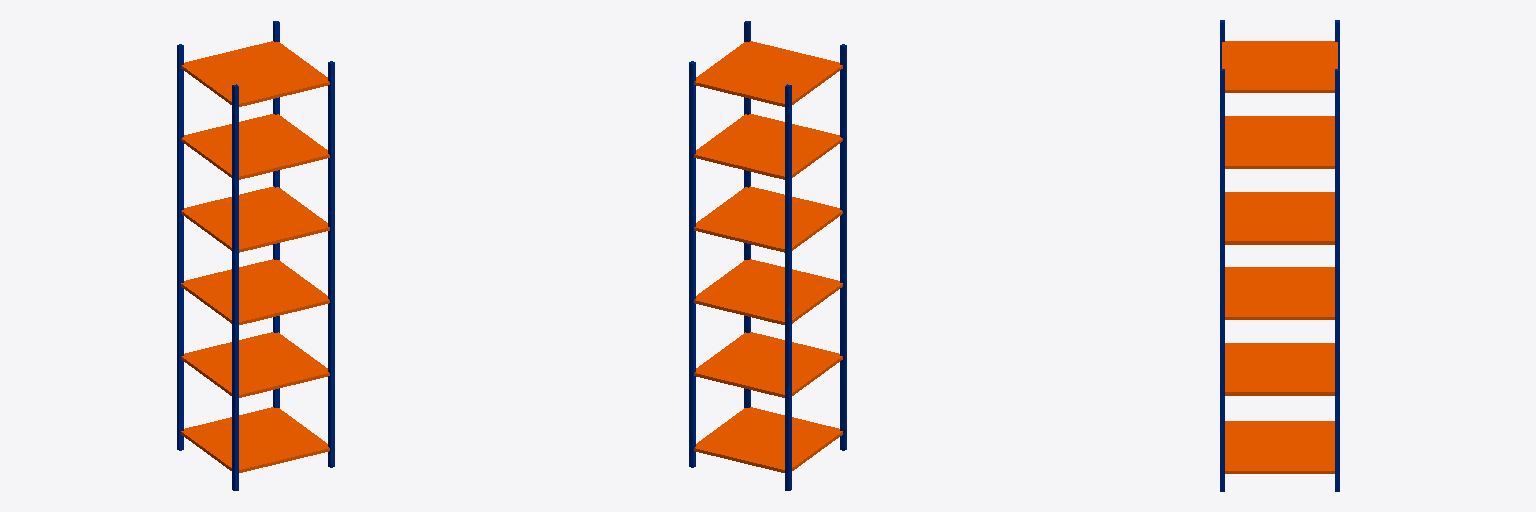
The robot description file, URDF, robot "pallet_rack":
<?xml version="1.0"?>
<robot name="pallet_rack">

  <material name="rack_blue"><color rgba="0.0 0.2 0.6 1.0"/></material>
  <material name="rack_orange"><color rgba="1.0 0.4 0.0 1.0"/></material>

  <link name="rack_base">
    
    <inertial>
      <mass value="150.0"/>
      <origin xyz="0 0 2.5" rpy="0 0 0"/>
      <inertia ixx="100.0" ixy="0" ixz="0" iyy="100.0" iyz="0" izz="50.0"/>
    </inertial>

    <visual><origin xyz="0.62 0.62 2.5" rpy="0 0 0"/><geometry><box size="0.06 0.06 5.0"/></geometry><material name="rack_blue"/></visual>
    <collision><origin xyz="0.62 0.62 2.5" rpy="0 0 0"/><geometry><box size="0.06 0.06 5.0"/></geometry></collision>

    <visual><origin xyz="0.62 -0.62 2.5" rpy="0 0 0"/><geometry><box size="0.06 0.06 5.0"/></geometry><material name="rack_blue"/></visual>
    <collision><origin xyz="0.62 -0.62 2.5" rpy="0 0 0"/><geometry><box size="0.06 0.06 5.0"/></geometry></collision>

    <visual><origin xyz="-0.62 0.62 2.5" rpy="0 0 0"/><geometry><box size="0.06 0.06 5.0"/></geometry><material name="rack_blue"/></visual>
    <collision><origin xyz="-0.62 0.62 2.5" rpy="0 0 0"/><geometry><box size="0.06 0.06 5.0"/></geometry></collision>

    <visual><origin xyz="-0.62 -0.62 2.5" rpy="0 0 0"/><geometry><box size="0.06 0.06 5.0"/></geometry><material name="rack_blue"/></visual>
    <collision><origin xyz="-0.62 -0.62 2.5" rpy="0 0 0"/><geometry><box size="0.06 0.06 5.0"/></geometry></collision>

    <visual><origin xyz="0 0 0.22" rpy="0 0 0"/><geometry><box size="1.26 1.26 0.04"/></geometry><material name="rack_orange"/></visual>
    <collision><origin xyz="0 0 0.22" rpy="0 0 0"/><geometry><box size="1.26 1.26 0.04"/></geometry></collision>

    <visual><origin xyz="0 0 1.15" rpy="0 0 0"/><geometry><box size="1.26 1.26 0.04"/></geometry><material name="rack_orange"/></visual>
    <collision><origin xyz="0 0 1.15" rpy="0 0 0"/><geometry><box size="1.26 1.26 0.04"/></geometry></collision>

    <visual><origin xyz="0 0 2.05" rpy="0 0 0"/><geometry><box size="1.26 1.26 0.04"/></geometry><material name="rack_orange"/></visual>
    <collision><origin xyz="0 0 2.05" rpy="0 0 0"/><geometry><box size="1.26 1.26 0.04"/></geometry></collision>

    <visual><origin xyz="0 0 2.95" rpy="0 0 0"/><geometry><box size="1.26 1.26 0.04"/></geometry><material name="rack_orange"/></visual>
    <collision><origin xyz="0 0 2.95" rpy="0 0 0"/><geometry><box size="1.26 1.26 0.04"/></geometry></collision>

    <visual><origin xyz="0 0 3.85" rpy="0 0 0"/><geometry><box size="1.26 1.26 0.04"/></geometry><material name="rack_orange"/></visual>
    <collision><origin xyz="0 0 3.85" rpy="0 0 0"/><geometry><box size="1.26 1.26 0.04"/></geometry></collision>

    <visual><origin xyz="0 0 4.75" rpy="0 0 0"/><geometry><box size="1.26 1.26 0.04"/></geometry><material name="rack_orange"/></visual>
    <collision><origin xyz="0 0 4.75" rpy="0 0 0"/><geometry><box size="1.26 1.26 0.04"/></geometry></collision>

  </link>
</robot>

--- Render facts (derived) ---
3 views of the same robot in one strip: view 1: azimuth 30°, elevation 25°; view 2: azimuth 150°, elevation 25°; view 3: azimuth 270°, elevation 25° (orthographic).
Model pallet_rack with 1 links and 0 joints (none), rooted at rack_base, posed every joint at zero.
Links seen in each view (by area): view 1: rack_base; view 2: rack_base; view 3: rack_base.
Link boxes in pixels (bbox=[...]): rack_base: bbox=[177, 21, 334, 490]; rack_base: bbox=[689, 21, 846, 490]; rack_base: bbox=[1220, 20, 1339, 491].
Size in the robot's own frame: 1.3 by 1.3 by 5 metres.
Geometry: primitives only (box / cylinder / sphere), no mesh files.
